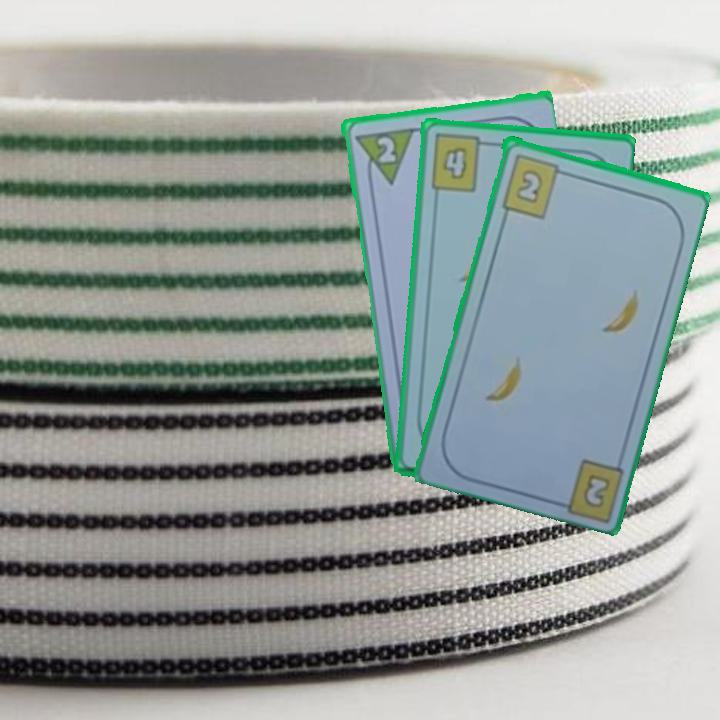2b: (497, 150, 570, 221), (579, 470, 613, 511)
2p: (373, 132, 399, 166)
4b: (427, 130, 493, 195)
